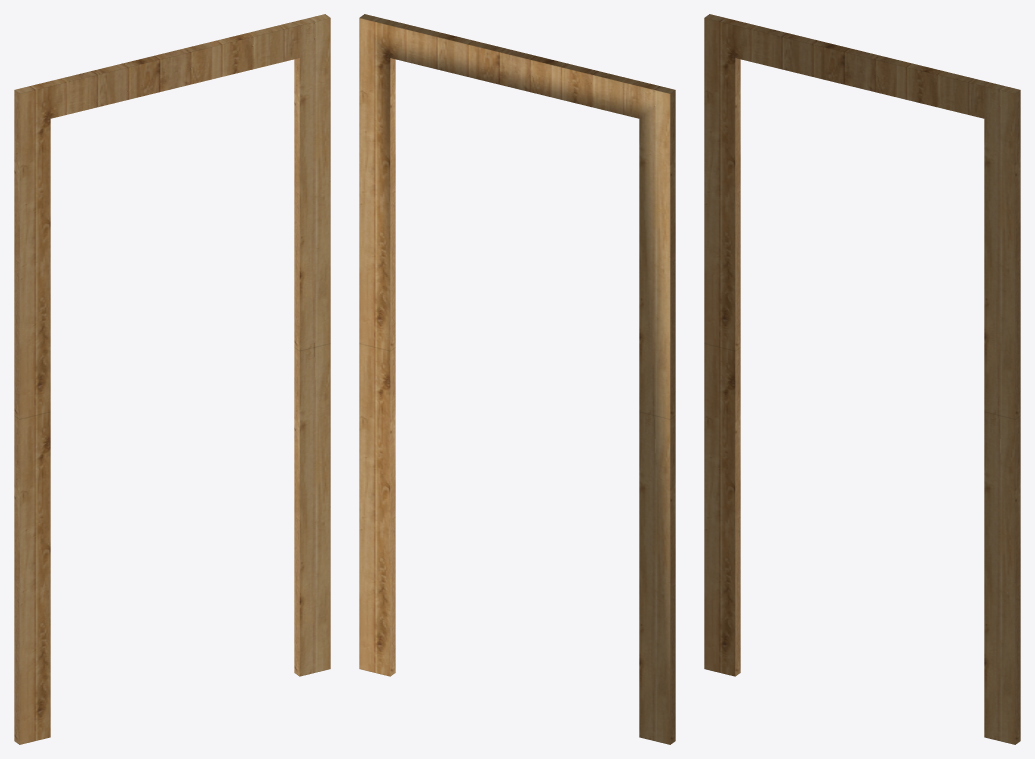
The model's file is Door1x2.fbx.
3 views of the same model, side by side, from view 1: azimuth 30°, elevation 25°; view 2: azimuth 150°, elevation 25°; view 3: azimuth 330°, elevation 25° (orthographic).
Visible parts, largest first — view 1: Door1x2; view 2: Door1x2; view 3: Door1x2.
Part boxes in pixels (bbox=[...]): Door1x2: bbox=[14, 14, 330, 744]; Door1x2: bbox=[359, 14, 675, 744]; Door1x2: bbox=[704, 14, 1020, 744].
Size of the model in its own units: 100 by 200 by 3.
